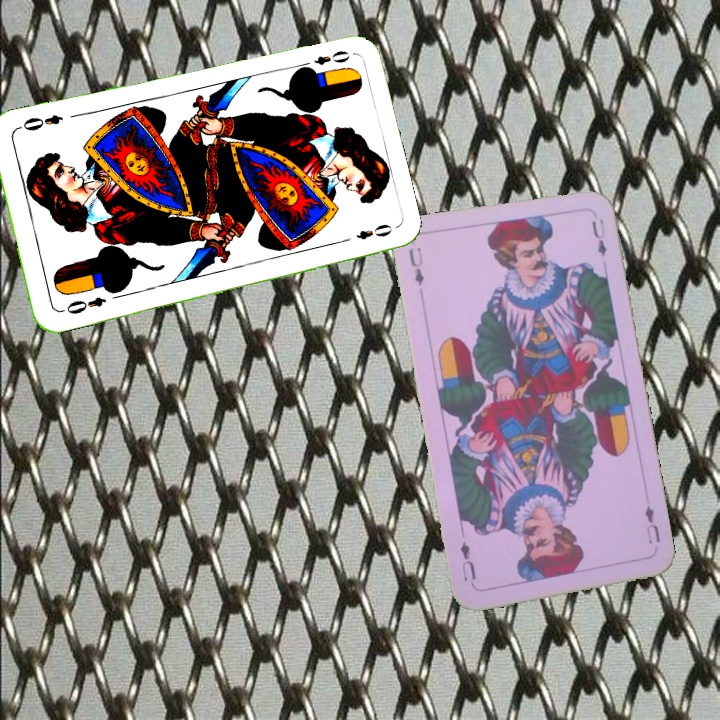EO: (296, 46, 353, 73), (56, 292, 109, 317)
EU: (640, 501, 663, 547), (404, 243, 427, 288)
